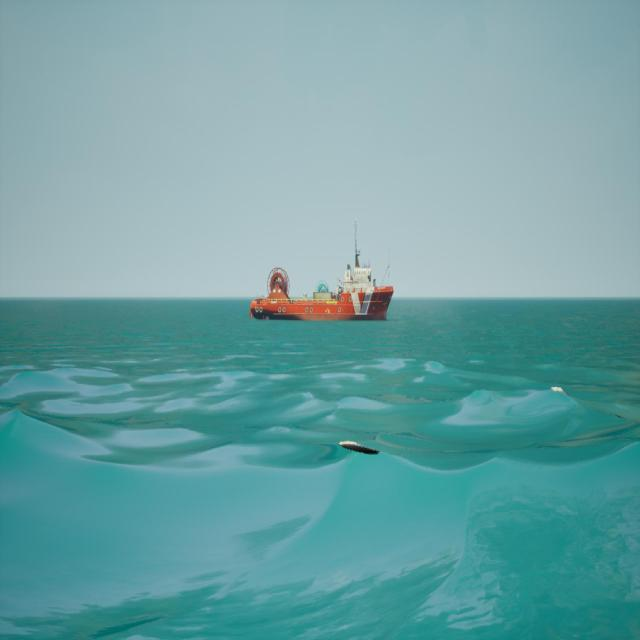tug boat: (250, 219, 396, 324)
